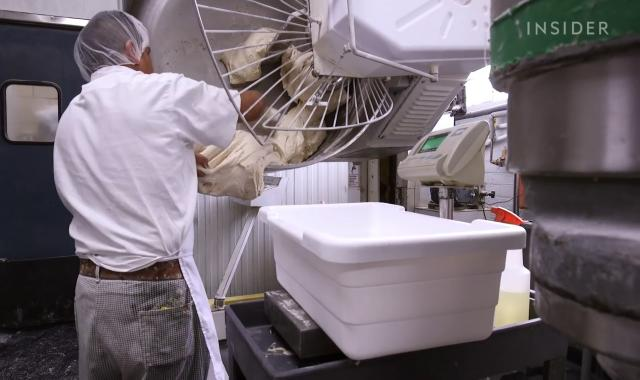hairnet: (72, 10, 148, 71)
